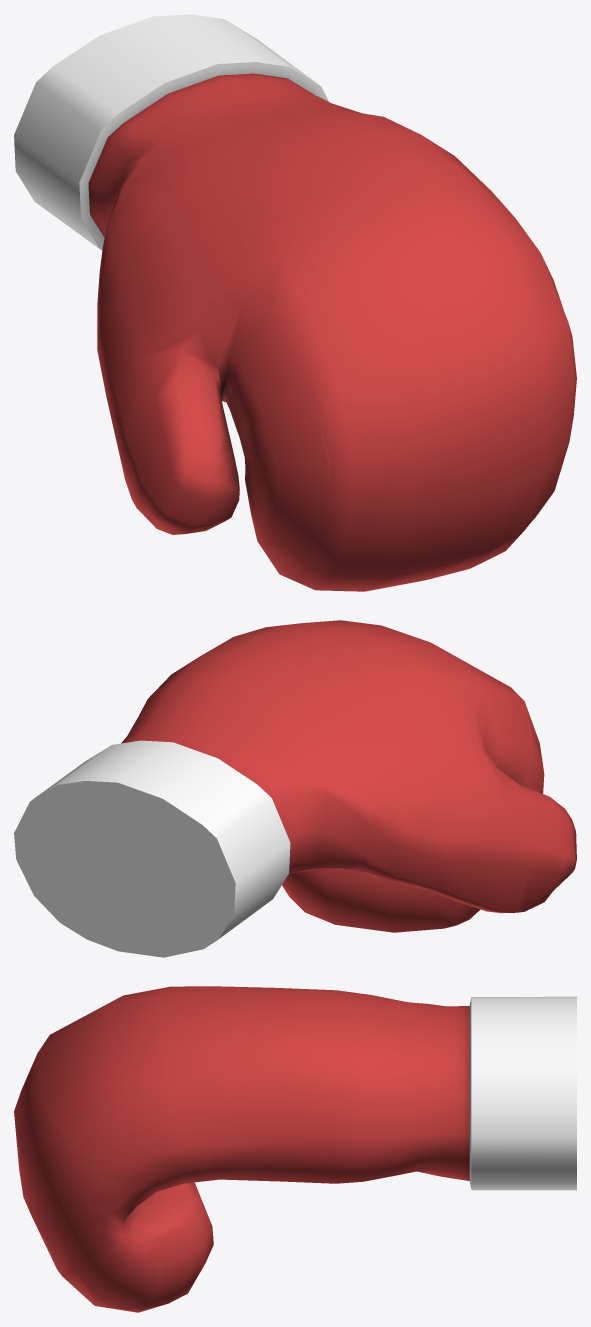
File: Boxing_Gloves.fbx
The picture shows the model from 3 angles, top to bottom: view 1: azimuth 30°, elevation 25°; view 2: azimuth 150°, elevation 25°; view 3: azimuth 270°, elevation 25°; orthographic projection. The views are drawn at different scales.
Visible parts, largest first — view 1: Boxing_Gloves; view 2: Boxing_Gloves; view 3: Boxing_Gloves.
Part boxes in pixels (box(x1,y1,x2,y2)): Boxing_Gloves: box(14, 14, 576, 591); Boxing_Gloves: box(14, 620, 576, 957); Boxing_Gloves: box(14, 986, 576, 1312).
Size of the model in its own units: 129 by 108 by 190.
